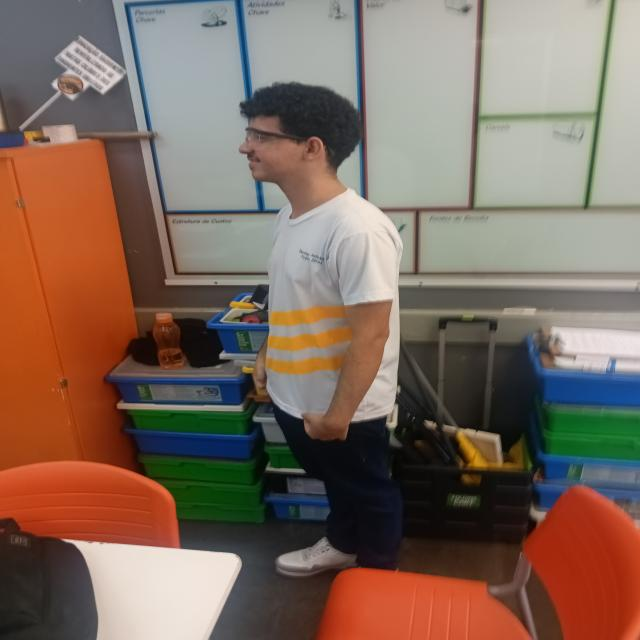oculos-epi: (245, 127, 306, 150)
